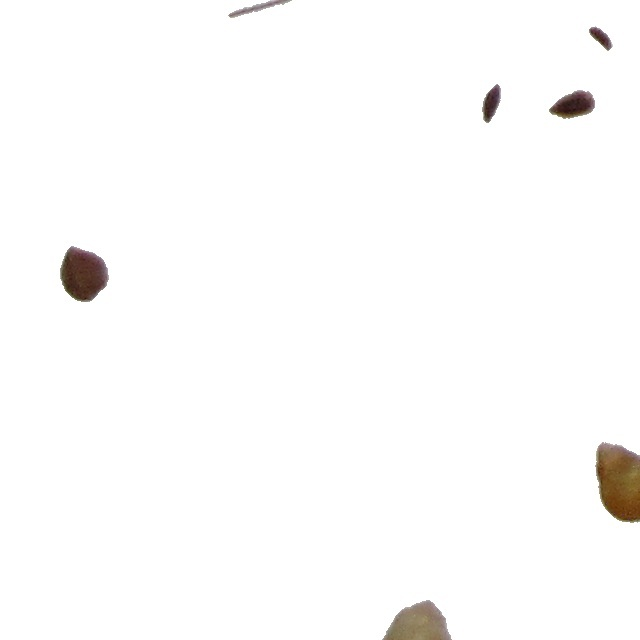buckwheat: (59, 245, 110, 303), (548, 89, 596, 120), (481, 83, 502, 124), (588, 25, 614, 52)
mais: (594, 441, 640, 524), (378, 599, 459, 640)
